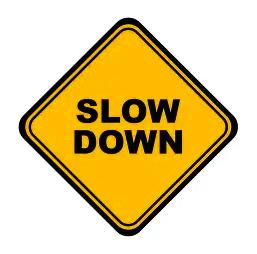Slow: (20, 26, 229, 226)
